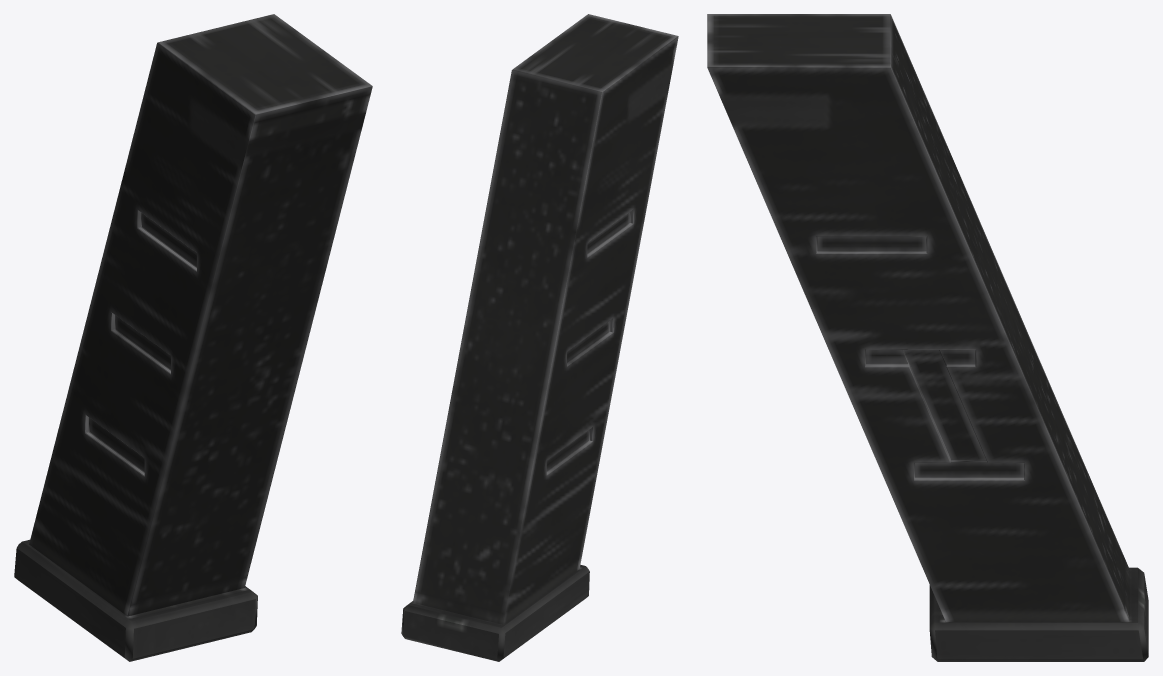
File: service_pistol_mag.glb
3 renders of one model, left to right at view 1: azimuth 30°, elevation 25°; view 2: azimuth 150°, elevation 25°; view 3: azimuth 270°, elevation 25°, orthographic. The views are drawn at different scales.
Parts seen in each view (by area): view 1: magazine; view 2: magazine; view 3: magazine.
Boxes of the visible parts, left/top/right/bottom form: magazine: left=14, top=14, right=372, bottom=661; magazine: left=401, top=14, right=678, bottom=661; magazine: left=707, top=14, right=1148, bottom=661.
Bounding box in the file's own units: 0.0232 × 0.107 × 0.0721.
1 material, 1 textured.
